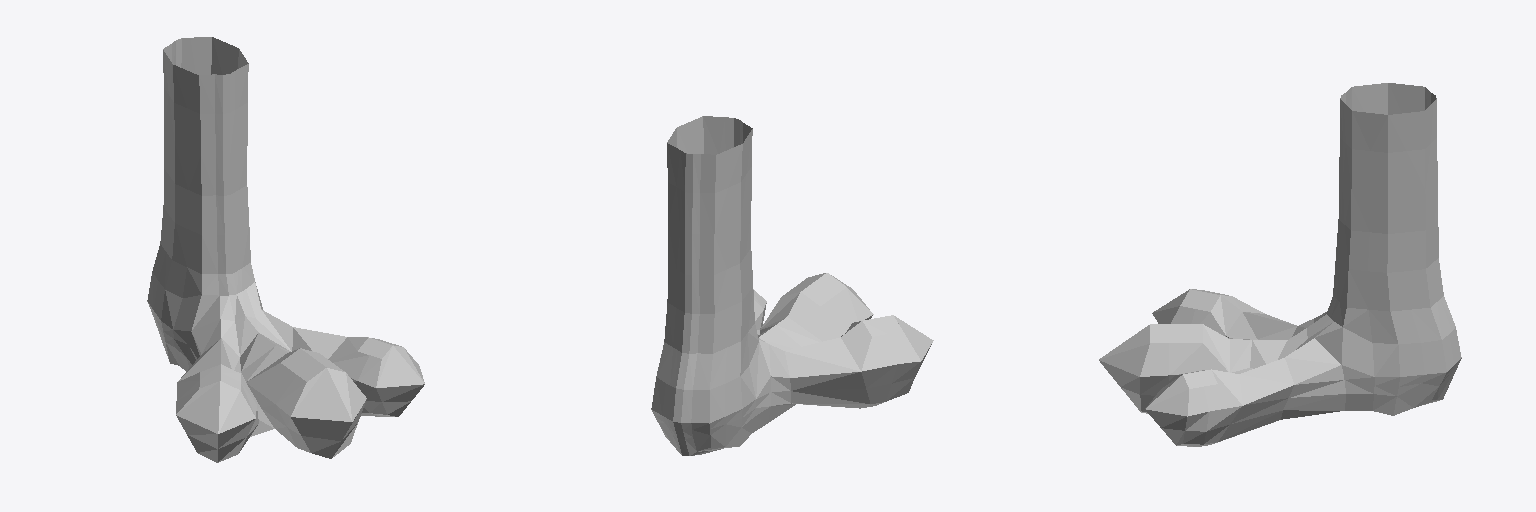
Rendered from ldfoot.obj.
3 views of the same model, side by side, from view 1: azimuth 30°, elevation 25°; view 2: azimuth 150°, elevation 25°; view 3: azimuth 270°, elevation 25° (orthographic).
Visible parts, largest first — view 1: pasted__pCube29 group; view 2: pasted__pCube29 group; view 3: pasted__pCube29 group.
Part boxes in pixels (x1,y1,x2,y2): pasted__pCube29 group: (147, 37, 424, 462); pasted__pCube29 group: (651, 116, 933, 455); pasted__pCube29 group: (1099, 83, 1461, 446).
Size of the model in its own units: 2.41 by 3.14 by 3.24.